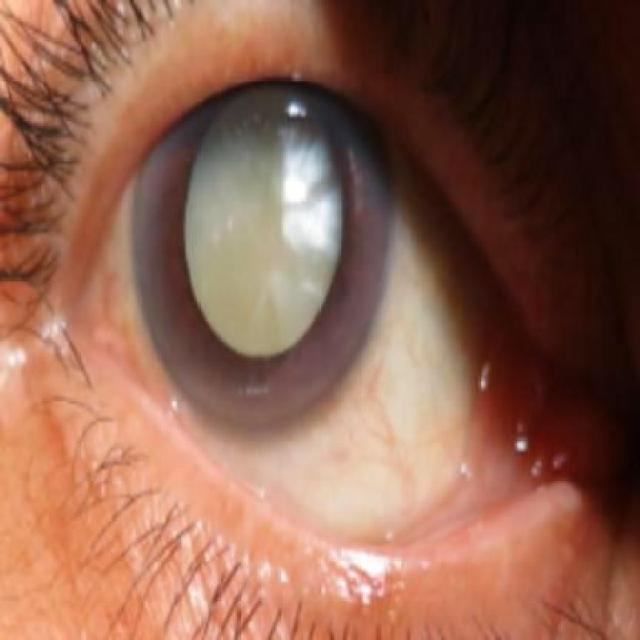Cataract: (133, 39, 397, 435)
